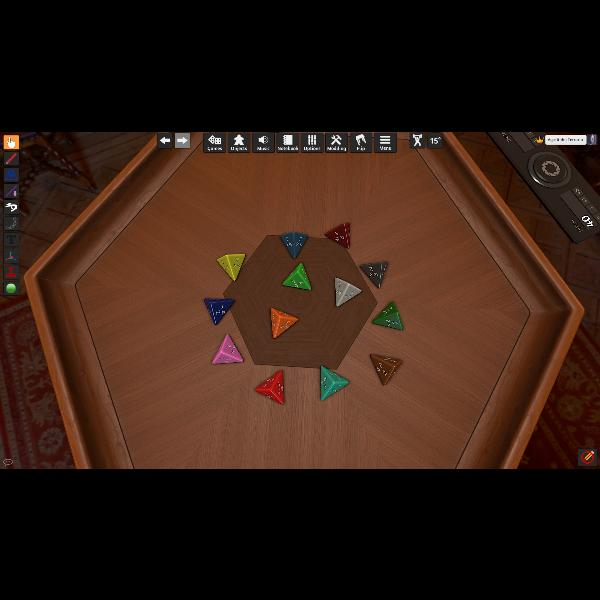d4: (255, 370, 285, 404), (321, 364, 349, 400), (371, 354, 401, 386), (212, 334, 244, 364), (270, 306, 298, 338), (372, 301, 402, 329), (333, 276, 361, 306), (282, 262, 310, 290), (217, 252, 245, 280), (279, 232, 307, 260), (205, 298, 234, 324), (360, 260, 386, 288), (324, 222, 350, 248)
